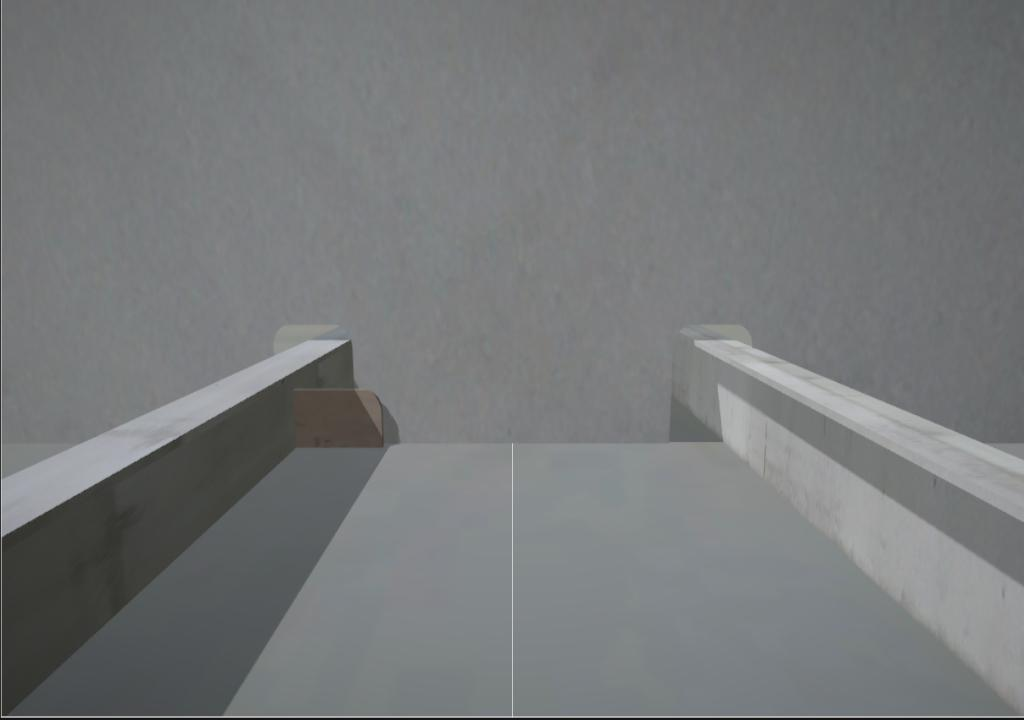fillet_yong_jeop_jang: (385, 437, 676, 447)
plate_CP05: (291, 387, 386, 448)
